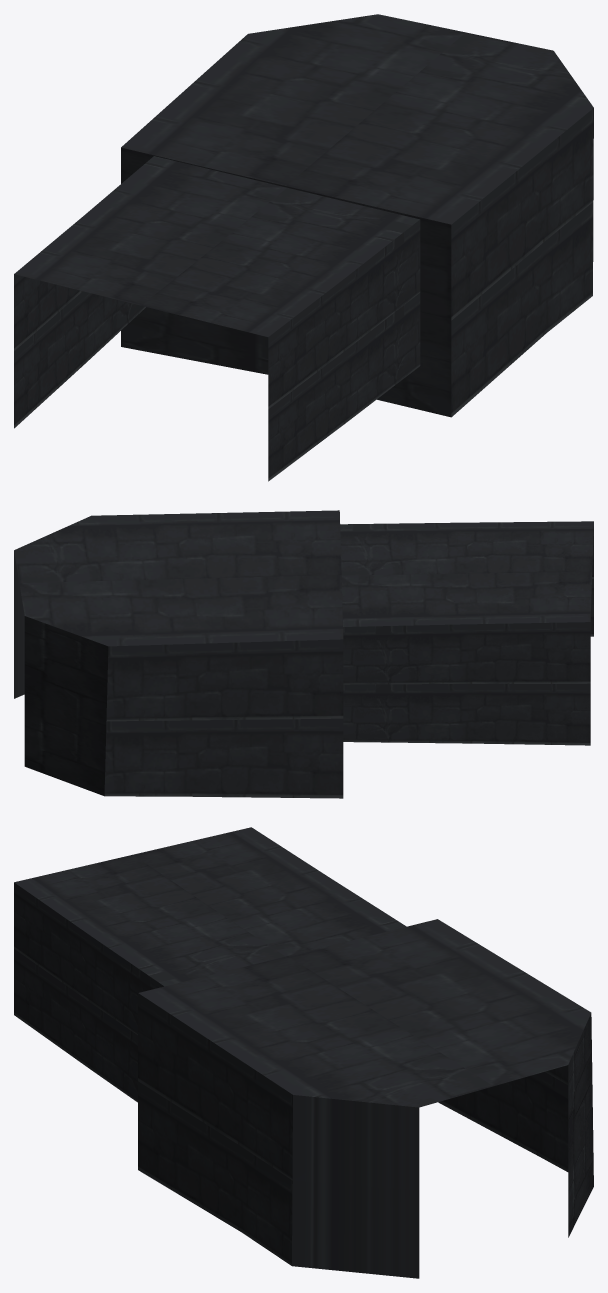
File: yw_ziyuanpingtai_guodao_002.FBX
The picture shows the model from 3 angles, top to bottom: view 1: azimuth 30°, elevation 25°; view 2: azimuth 150°, elevation 25°; view 3: azimuth 270°, elevation 25°; orthographic projection. The views are drawn at different scales.
Parts seen in each view (by area): view 1: yw_ziyuanpingtai_guodao_002; view 2: yw_ziyuanpingtai_guodao_002; view 3: yw_ziyuanpingtai_guodao_002.
Boxes of the visible parts, left/top/right/bottom form: yw_ziyuanpingtai_guodao_002: left=14, top=14, right=593, bottom=481; yw_ziyuanpingtai_guodao_002: left=14, top=510, right=593, bottom=798; yw_ziyuanpingtai_guodao_002: left=14, top=827, right=593, bottom=1278.
Size of the model in its own units: 2414 by 733 by 2091.
